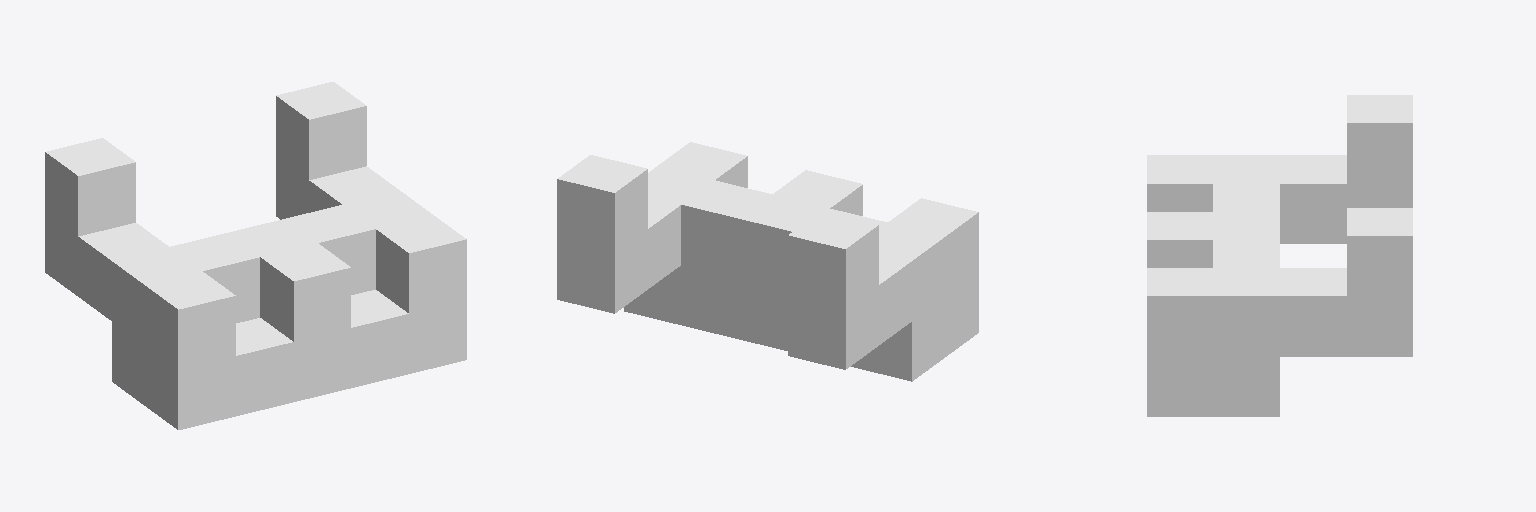
The model's file is SkullyJaw.obj.
The picture shows the model from 3 angles: view 1: azimuth 30°, elevation 25°; view 2: azimuth 150°, elevation 25°; view 3: azimuth 270°, elevation 25°; orthographic projection.
Parts seen in each view (by area): view 1: object 1; view 2: object 1; view 3: object 1.
Boxes of the visible parts, x1=… form: object 1: x1=45, y1=82, x2=466, y2=429; object 1: x1=557, y1=142, x2=978, y2=381; object 1: x1=1147, y1=95, x2=1412, y2=416.
Bounding box in the file's own units: 0.5 × 0.3 × 0.4.